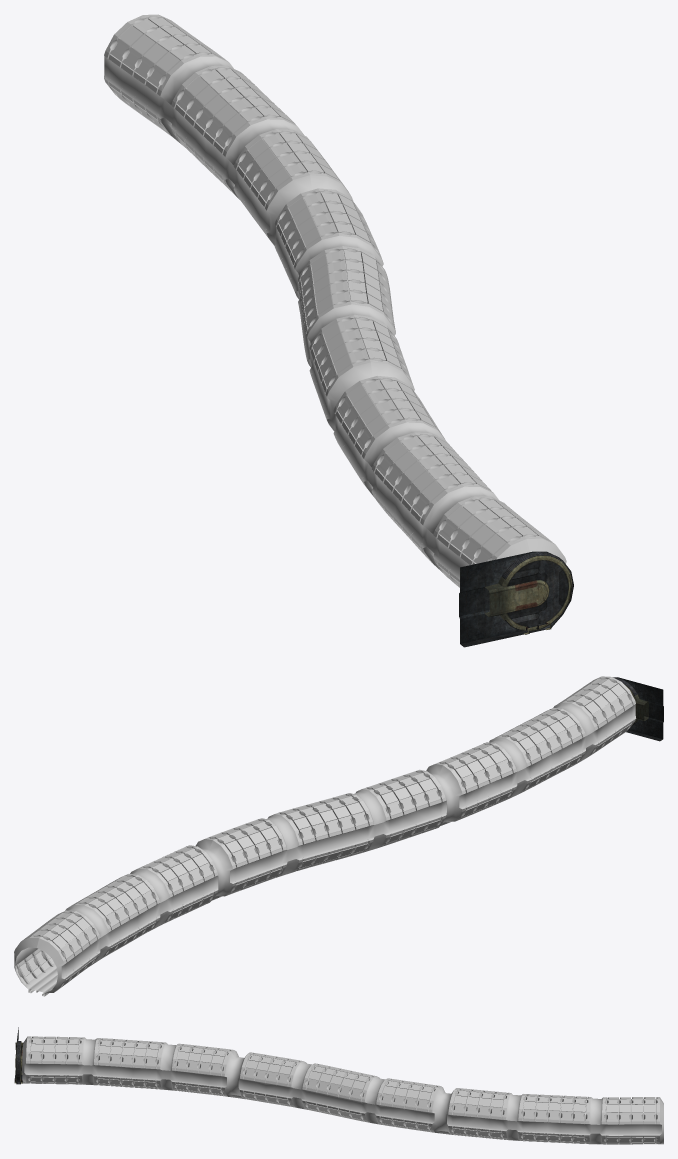
Rendered from traintunnel_s_curve.dae.
3 renders of one model, top to bottom at view 1: azimuth 30°, elevation 25°; view 2: azimuth 150°, elevation 25°; view 3: azimuth 270°, elevation 25°, orthographic. The views are drawn at different scales.
Visible parts, largest first — view 1: polySurface1162, polySurface1165; view 2: polySurface1162, polySurface1165; view 3: polySurface1162, polySurface1165.
Part boxes in pixels (box(x1,y1,x2,y2)): polySurface1162: box(104, 14, 566, 587); polySurface1165: box(459, 551, 573, 647); polySurface1162: box(14, 676, 636, 996); polySurface1165: box(613, 677, 663, 741); polySurface1162: box(22, 1036, 663, 1144); polySurface1165: box(14, 1027, 23, 1084).
Bounding box in the file's own units: 25.51 × 5.77 × 79.82.
